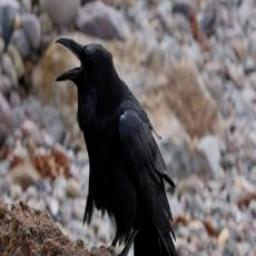Crow: (56, 38, 194, 256)
